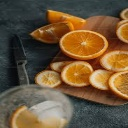orange: (57, 29, 111, 60), (8, 104, 69, 128), (59, 60, 97, 87)
